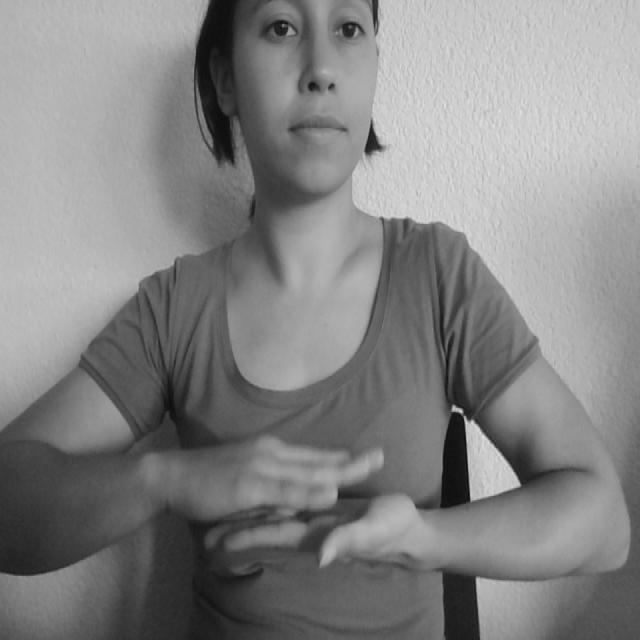Arkadas: (106, 427, 518, 618)
